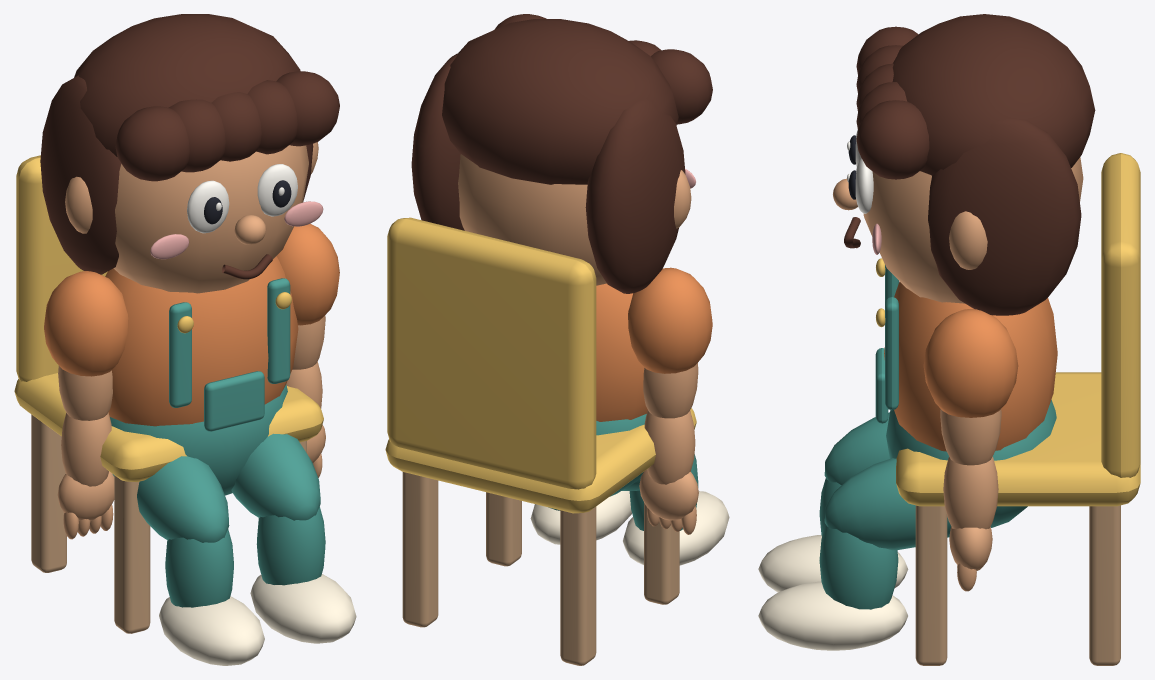
Rendered from ava-stand.glb.
The picture shows the model from 3 angles, left to right: view 1: azimuth 30°, elevation 25°; view 2: azimuth 150°, elevation 25°; view 3: azimuth 270°, elevation 25°; orthographic projection. The views are drawn at different scales.
Visible parts, largest first — view 1: soft shirt, hair cap, clay head, bob hair, chair back, shirt sleeve, chair seat, trouser leg, trouser leg.001, little shoe.001, little shoe, chair leg (+25 smaller); view 2: chair back, hair cap, bob hair, clay head, chair seat, shirt sleeve, chair leg.001, bob hair.001, chair leg.003, soft shirt, little shoe, forearm (+9 smaller); view 3: bob hair.001, hair cap, chair seat, chair back, soft shirt, shirt sleeve.001, clay head, little shoe.001, trouser leg.001, chair leg.002, chair leg.003, lower leg.001 (+15 smaller).
Part boxes in pixels (bbox=[...]): soft shirt: bbox=[105, 256, 298, 426]; hair cap: bbox=[74, 14, 300, 156]; clay head: bbox=[113, 145, 308, 293]; bob hair: bbox=[40, 75, 121, 274]; chair back: bbox=[16, 155, 107, 381]; shirt sleeve: bbox=[44, 271, 128, 376]; chair seat: bbox=[14, 373, 323, 482]; trouser leg: bbox=[137, 456, 229, 542]; trouser leg.001: bbox=[231, 433, 320, 520]; little shoe.001: bbox=[250, 574, 356, 643]; little shoe: bbox=[159, 596, 264, 665]; chair leg: bbox=[114, 475, 150, 633]; chair back: bbox=[387, 217, 596, 489]; hair cap: bbox=[442, 19, 678, 184]; bob hair: bbox=[585, 99, 685, 293]; clay head: bbox=[458, 154, 606, 285]; chair seat: bbox=[385, 408, 696, 513]; shirt sleeve: bbox=[628, 267, 712, 373]; chair leg.001: bbox=[560, 507, 596, 665]; bob hair.001: bbox=[411, 53, 464, 230]; chair leg.003: bbox=[402, 472, 438, 627]; soft shirt: bbox=[596, 283, 647, 421]; little shoe: bbox=[623, 491, 729, 565]; forearm: bbox=[644, 410, 695, 484]; bob hair.001: bbox=[928, 118, 1081, 315]; hair cap: bbox=[892, 14, 1095, 175]; chair seat: bbox=[896, 372, 1140, 506]; chair back: bbox=[1101, 153, 1140, 477]; soft shirt: bbox=[884, 281, 1057, 451]; shirt sleeve.001: bbox=[923, 309, 1018, 417]; clay head: bbox=[863, 157, 1083, 303]; little shoe.001: bbox=[758, 581, 907, 650]; trouser leg.001: bbox=[824, 458, 951, 550]; chair leg.002: bbox=[915, 505, 947, 665]; chair leg.003: bbox=[1089, 505, 1120, 665]; lower leg.001: bbox=[819, 525, 898, 609].
Bounding box in the file's own units: 0.87 × 1.65 × 0.9687.
